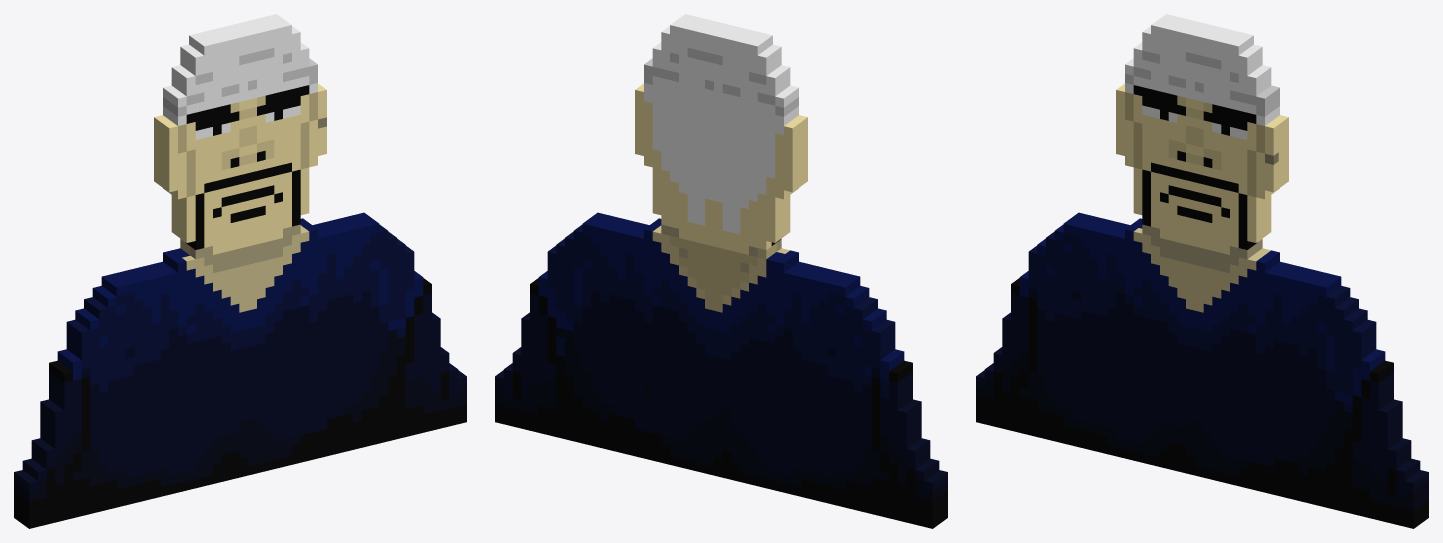
File: shisyo2.fbx
3 views of the same model, side by side, from view 1: azimuth 30°, elevation 25°; view 2: azimuth 150°, elevation 25°; view 3: azimuth 330°, elevation 25° (orthographic).
Visible parts, largest first — view 1: ObjObject.004; view 2: ObjObject.004; view 3: ObjObject.004.
Part boxes in pixels (<box>): ObjObject.004: <box>14,14,466,528</box>; ObjObject.004: <box>495,14,947,528</box>; ObjObject.004: <box>976,14,1428,528</box>.
Size of the model in its own units: 500 by 480 by 30.
Materials: 1 (1 with a texture image).
